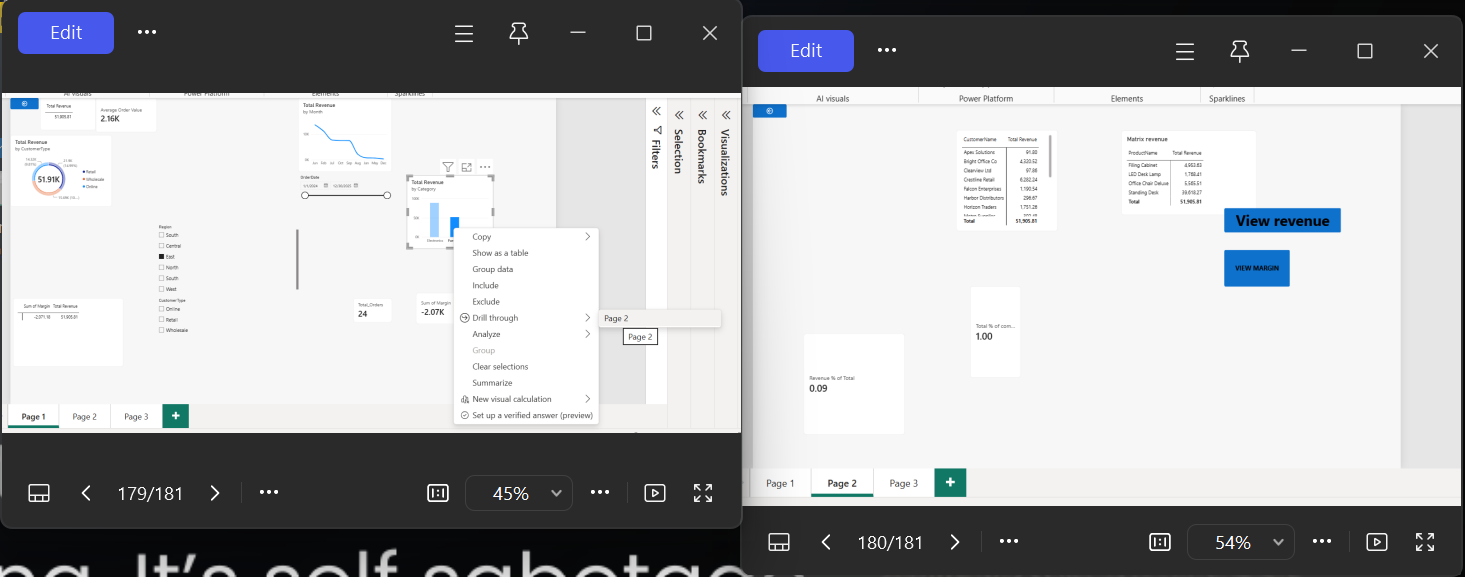

This screenshot's page, from the dashboard's own definition file:
{"tool":"powerbi","page":{"name":"Page 2","canvas":[1920,1080],"ordinal":1},"visuals":[{"type":"pivotTable","fields":{"Rows":["Customers.CustomerName"],"Values":["Sales.Total Revenue"]},"box":[603.8,76.5,300,300],"z":1},{"type":"actionButton","box":[0,0,100,40],"z":2},{"type":"cardVisual","fields":{"Data":["Sales.Revenue % of Total"]},"box":[150,679,300,300],"z":3},{"type":"cardVisual","fields":{"Data":["Sales.Total % of company cateogry"]},"box":[643.5,538.6,150.2,272.1],"z":4},{"type":"pivotTable","title":" matrix margin","fields":{"Rows":["Products.ProductName"],"Values":["Sum(Sales.Margin)"]},"box":[1089.7,77.8,401,249.1],"z":5},{"type":"actionButton","box":[1399.1,308.8,346.3,72.9],"z":6},{"type":"actionButton","box":[1397.5,431.4,194.4,109.4],"z":7},{"type":"actionButton","box":[0,0,100,40],"z":8},{"type":"actionButton","box":[0,0,100,40],"z":9}]}

Visuals, with their boxes on the page's 1920x1080 design canvas (x1, y1, x2, y2). These are canvas units, not pixel positions in the 1465x577 screenshot, which may show the page scaled, cropped or inside an application window:
pivotTable - Customers.CustomerName x Sales.Total Revenue: <region>604, 76, 904, 376</region>
actionButton: <region>0, 0, 100, 40</region>
cardVisual - Sales.Revenue % of Total: <region>150, 679, 450, 979</region>
cardVisual - Sales.Total % of company cateogry: <region>644, 539, 794, 811</region>
" matrix margin" pivotTable: <region>1090, 78, 1491, 327</region>
actionButton: <region>1399, 309, 1745, 382</region>
actionButton: <region>1398, 431, 1592, 541</region>
actionButton: <region>0, 0, 100, 40</region>
actionButton: <region>0, 0, 100, 40</region>
